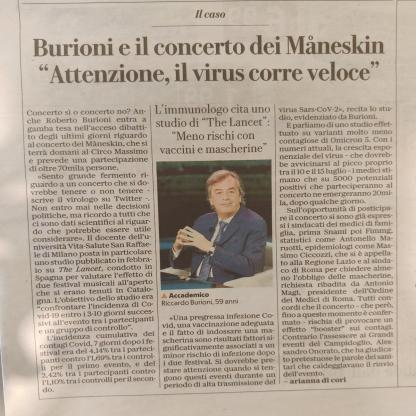immagine: (155, 160, 276, 291)
testo_col: (21, 104, 156, 396), (274, 98, 401, 377), (158, 311, 278, 393)
titolo: (22, 31, 391, 88)
